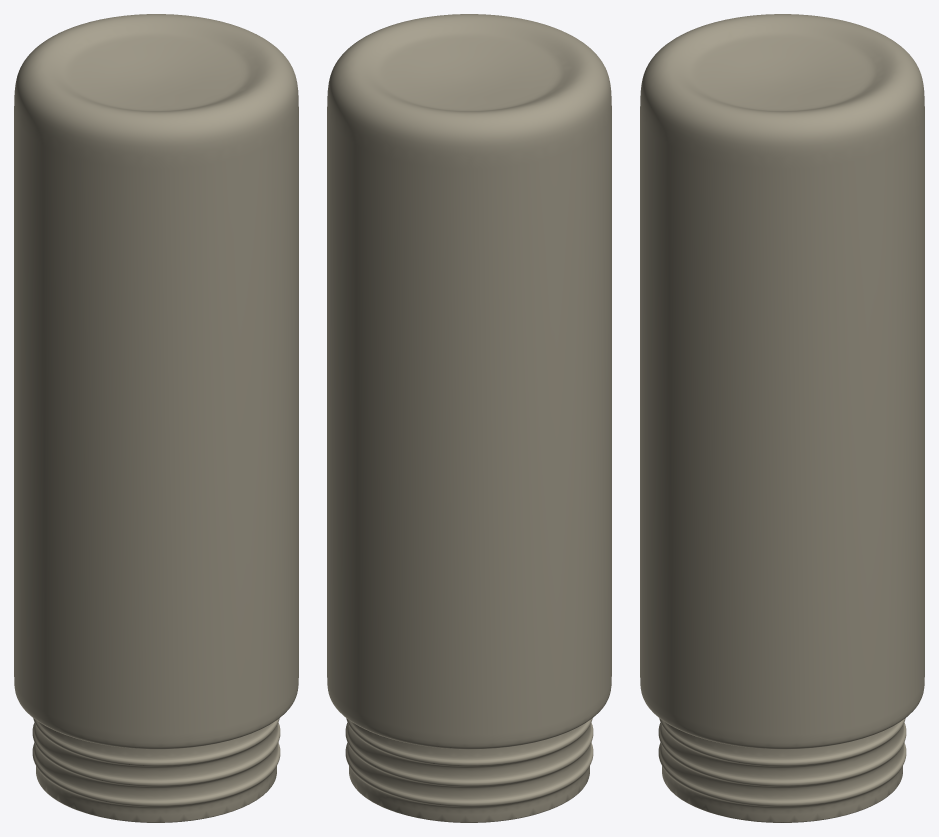
The picture shows the model from 3 angles, left to right: view 1: azimuth 30°, elevation 25°; view 2: azimuth 150°, elevation 25°; view 3: azimuth 270°, elevation 25°; orthographic projection.
Visible parts, largest first — view 1: main_bottle; view 2: main_bottle; view 3: main_bottle.
Boxes of the visible parts, box(x1,y1,x2,y2) form: main_bottle: box(14, 14, 298, 822); main_bottle: box(327, 14, 611, 822); main_bottle: box(640, 14, 924, 822).
Size of the model in its own units: 0.0327 by 0.0895 by 0.0327.
